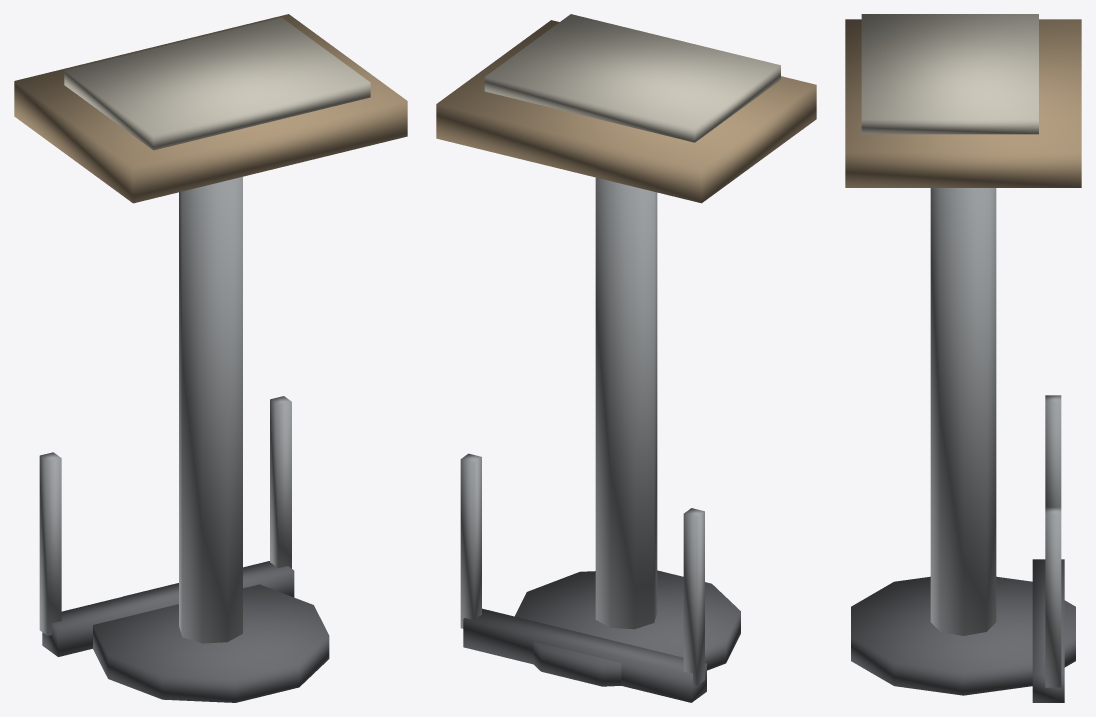
File: memorial_guestbook_stand__reinforced.glb
3 renders of one model, left to right at view 1: azimuth 30°, elevation 25°; view 2: azimuth 150°, elevation 25°; view 3: azimuth 270°, elevation 25°, orthographic. The views are drawn at different scales.
Parts seen in each view (by area): view 1: world; view 2: world; view 3: world.
Boxes of the visible parts, box(x1,y1,x2,y2) form: world: box(14, 14, 407, 702); world: box(436, 14, 816, 702); world: box(845, 14, 1081, 702).
Size of the model in its own units: 0.4944 by 1 by 0.3708.
